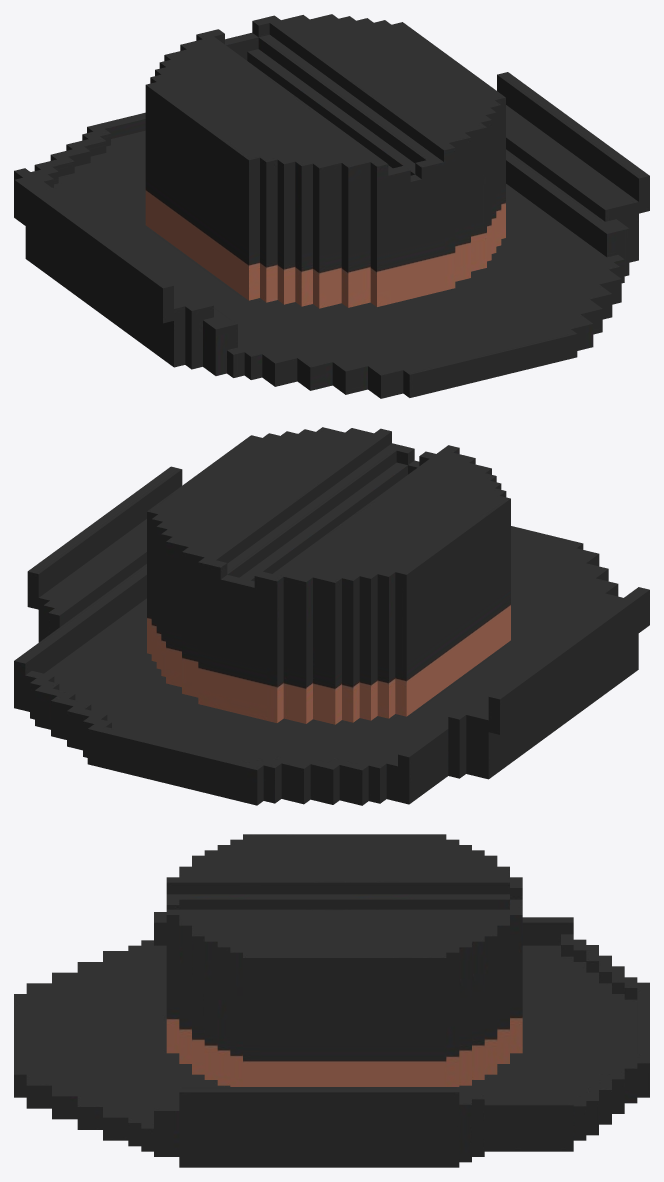
The model's file is mohawk_green.glb.
3 renders of one model, top to bottom at view 1: azimuth 30°, elevation 25°; view 2: azimuth 150°, elevation 25°; view 3: azimuth 270°, elevation 25°, orthographic. The views are drawn at different scales.
Visible parts, largest first — view 1: cowboy.001; view 2: cowboy.001; view 3: cowboy.001.
Part boxes in pixels (<box>): cowboy.001: <box>14,14,649,398</box>; cowboy.001: <box>14,427,649,805</box>; cowboy.001: <box>14,834,649,1167</box>.
Bounding box in the file's own units: 4.3 × 1.4 × 5.
Materials: 1 (1 with a texture image).
